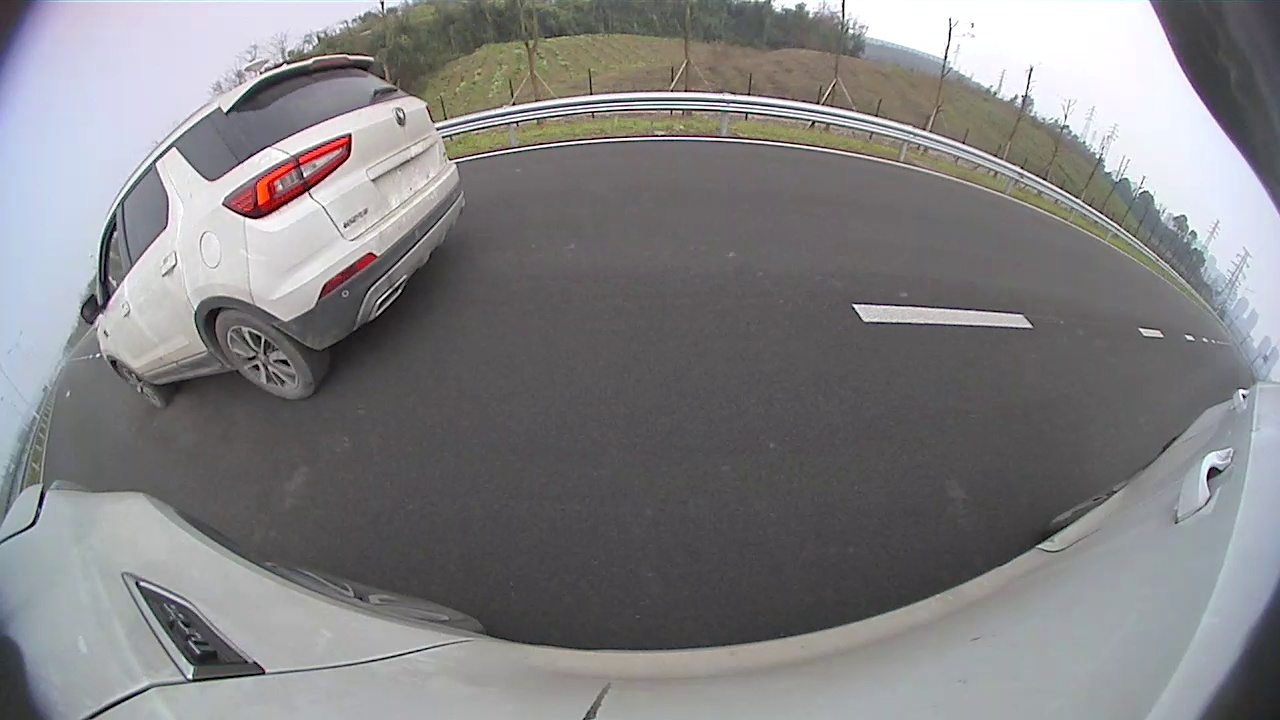car: (82, 54, 465, 408)
front: (101, 350, 169, 416)
rear: (207, 301, 324, 411)
